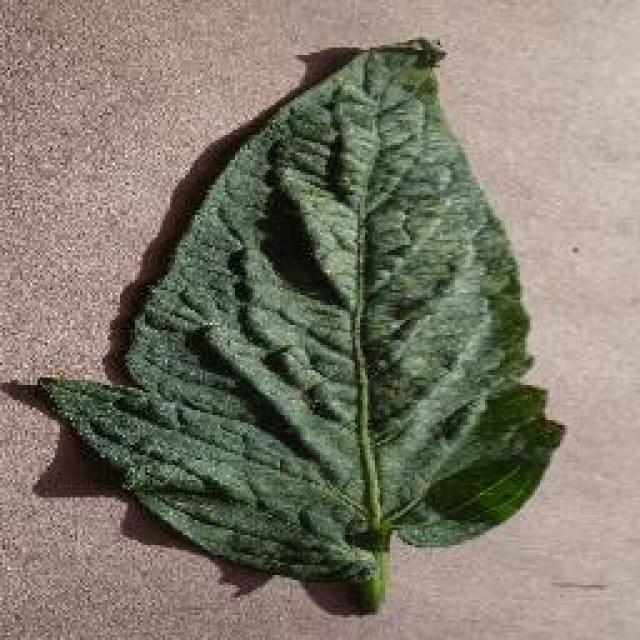Tomato___Spider_mites Two-spotted_spider_mite: (38, 40, 558, 610)
